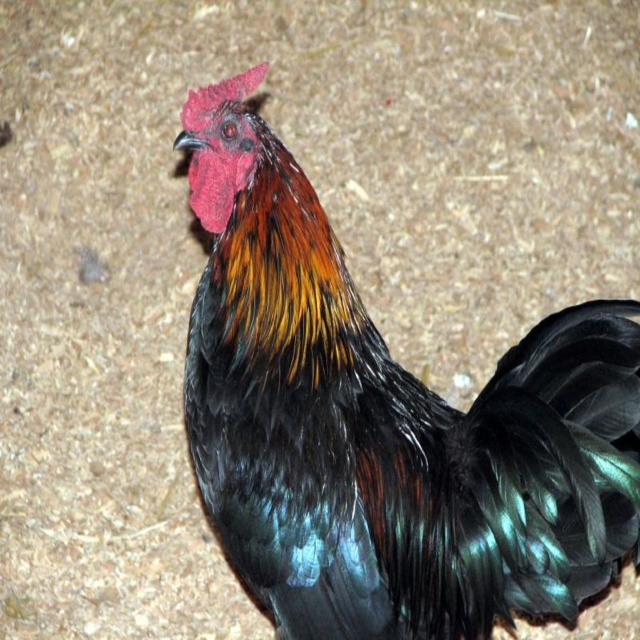Chicken: (170, 52, 639, 639)
